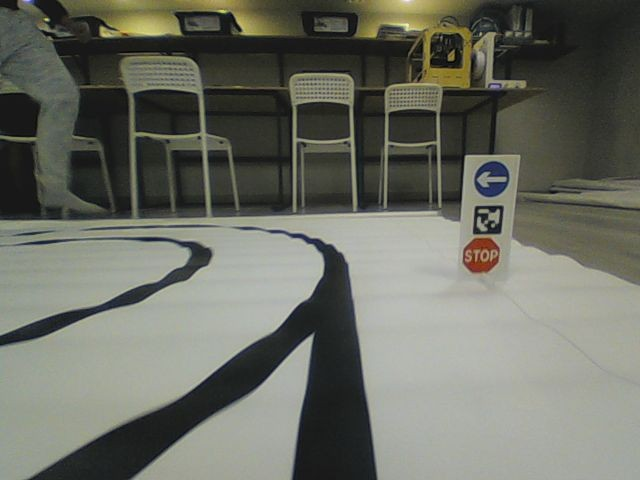Stop: (461, 236, 501, 274)
